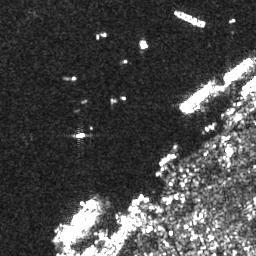ship: (179, 79, 213, 112), (222, 56, 254, 83), (173, 8, 204, 29), (158, 149, 178, 166), (73, 132, 87, 139), (62, 76, 77, 81)
